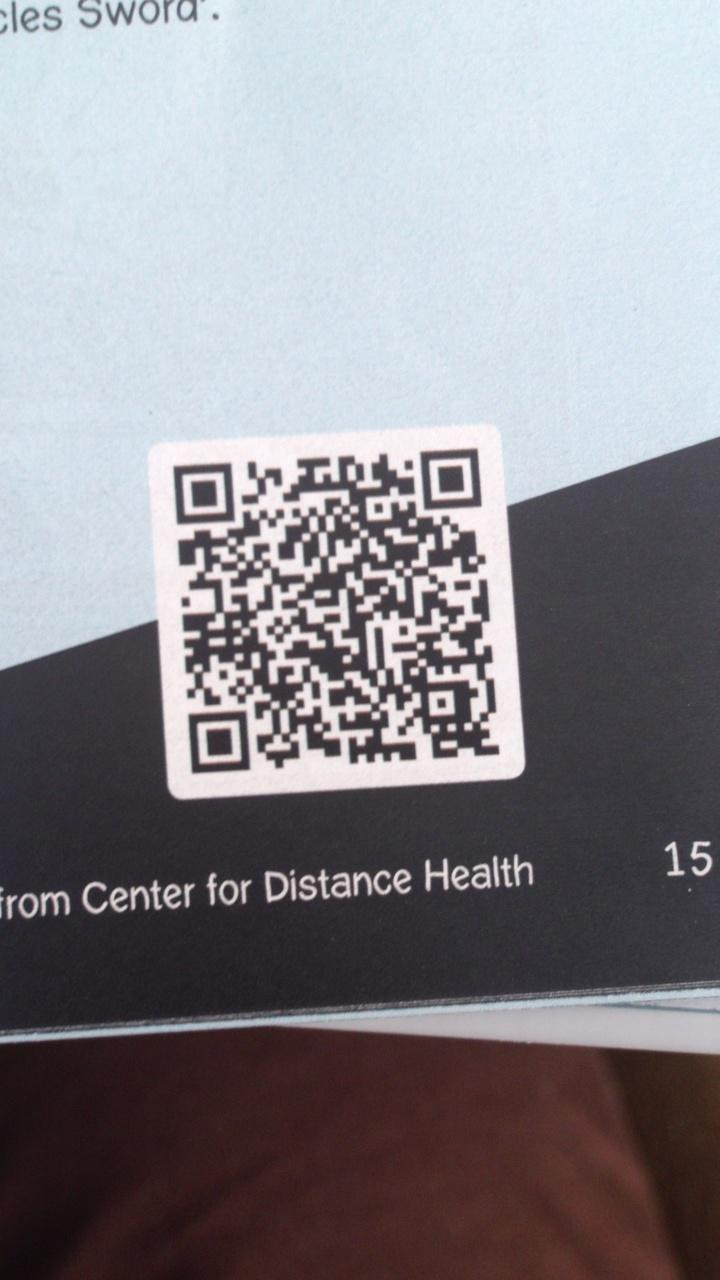Finder pattern: (176, 702, 257, 781), (413, 439, 487, 515), (165, 454, 242, 527)
